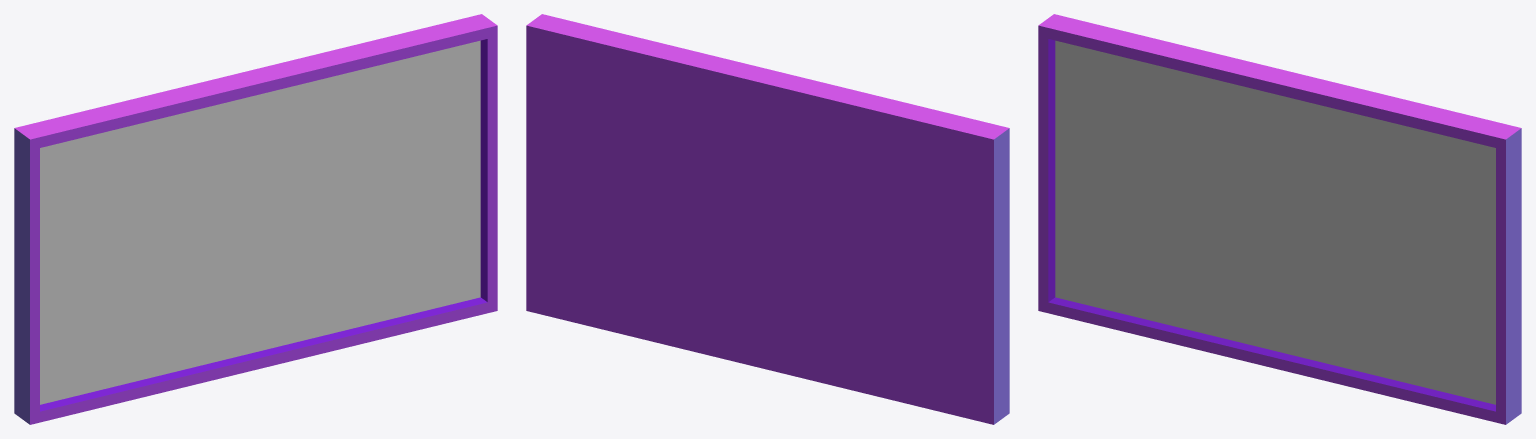
File: 3D_Billboard_12x7_img001.fbx
The picture shows the model from 3 angles, left to right: view 1: azimuth 30°, elevation 25°; view 2: azimuth 150°, elevation 25°; view 3: azimuth 330°, elevation 25°; orthographic projection.
Parts seen in each view (by area): view 1: GEO_Billboard_12x7_img001; view 2: GEO_Billboard_12x7_img001; view 3: GEO_Billboard_12x7_img001.
Boxes of the visible parts, x1=… form: GEO_Billboard_12x7_img001: x1=14, y1=14, x2=497, y2=424; GEO_Billboard_12x7_img001: x1=526, y1=14, x2=1009, y2=424; GEO_Billboard_12x7_img001: x1=1038, y1=14, x2=1521, y2=424.
Bounding box in the file's own units: 12 × 0.7 × 7.
